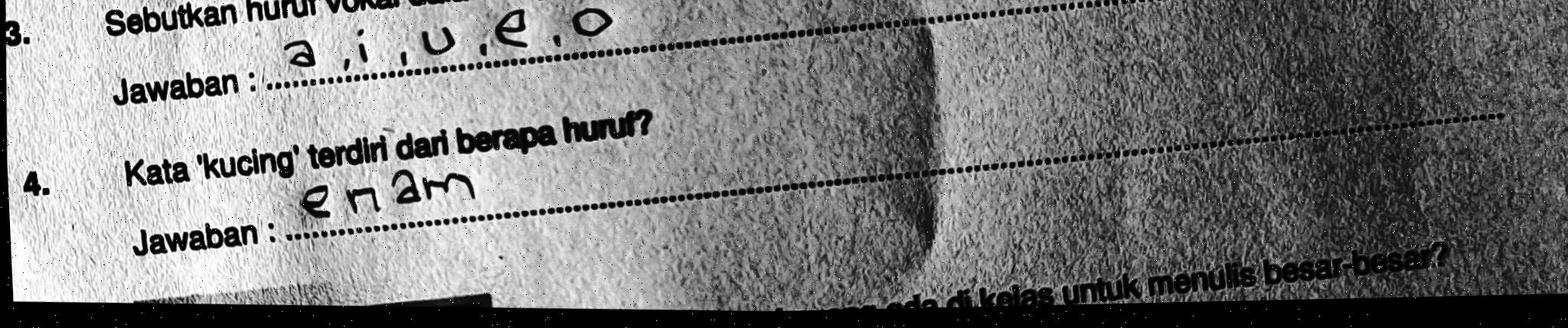jawaban: (300, 155, 480, 231)
